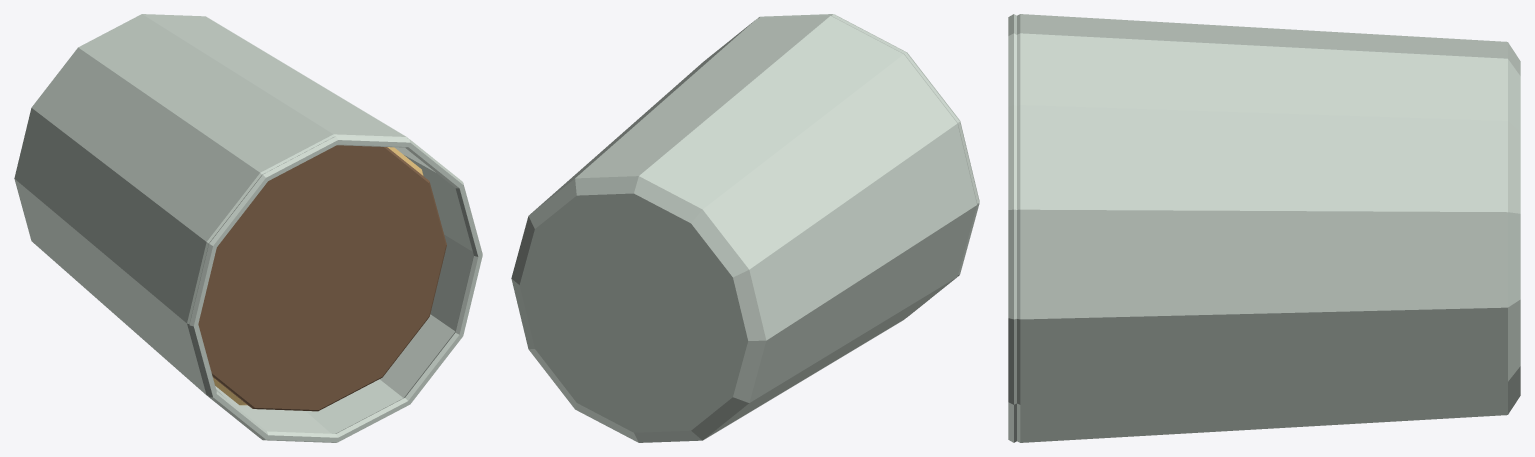
Rendered from pudding.glb.
3 views of the same model, side by side, from view 1: azimuth 30°, elevation 25°; view 2: azimuth 150°, elevation 25°; view 3: azimuth 270°, elevation 25° (orthographic). The views are drawn at different scales.
Visible parts, largest first — view 1: pudding; view 2: pudding; view 3: pudding.
Boxes of the visible parts, box(x1,y1,x2,y2) form: pudding: box(14, 14, 482, 442); pudding: box(511, 14, 979, 442); pudding: box(1008, 14, 1520, 442).
Bounding box in the file's own units: 0.068 × 0.068 × 0.0809.
